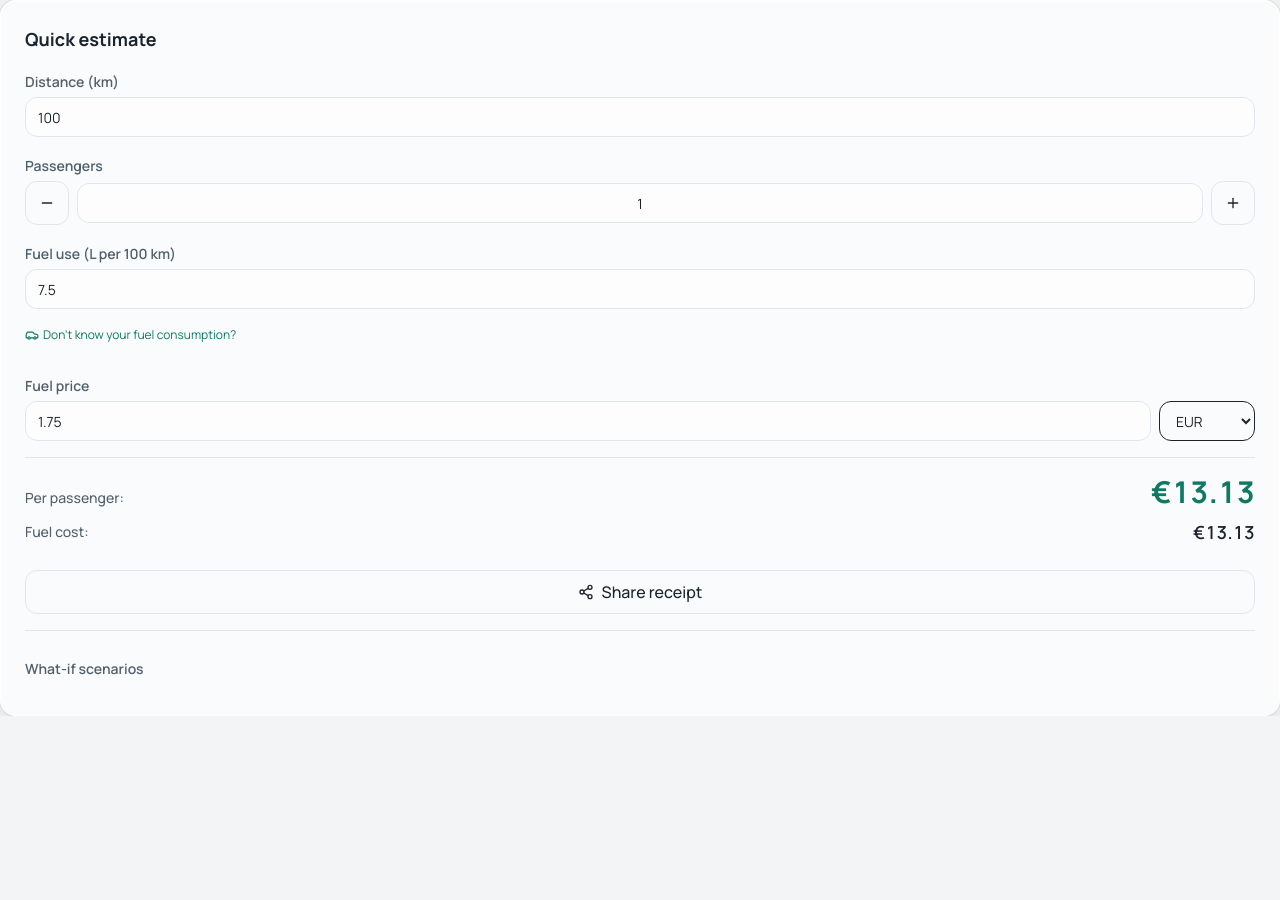
Test: QuickCalculator + scenarios › preserves the established suggested-price conversion on an untouched currency change
Select "UAH" in the dropdown at [1207, 421], box [1159,401,1255,441]
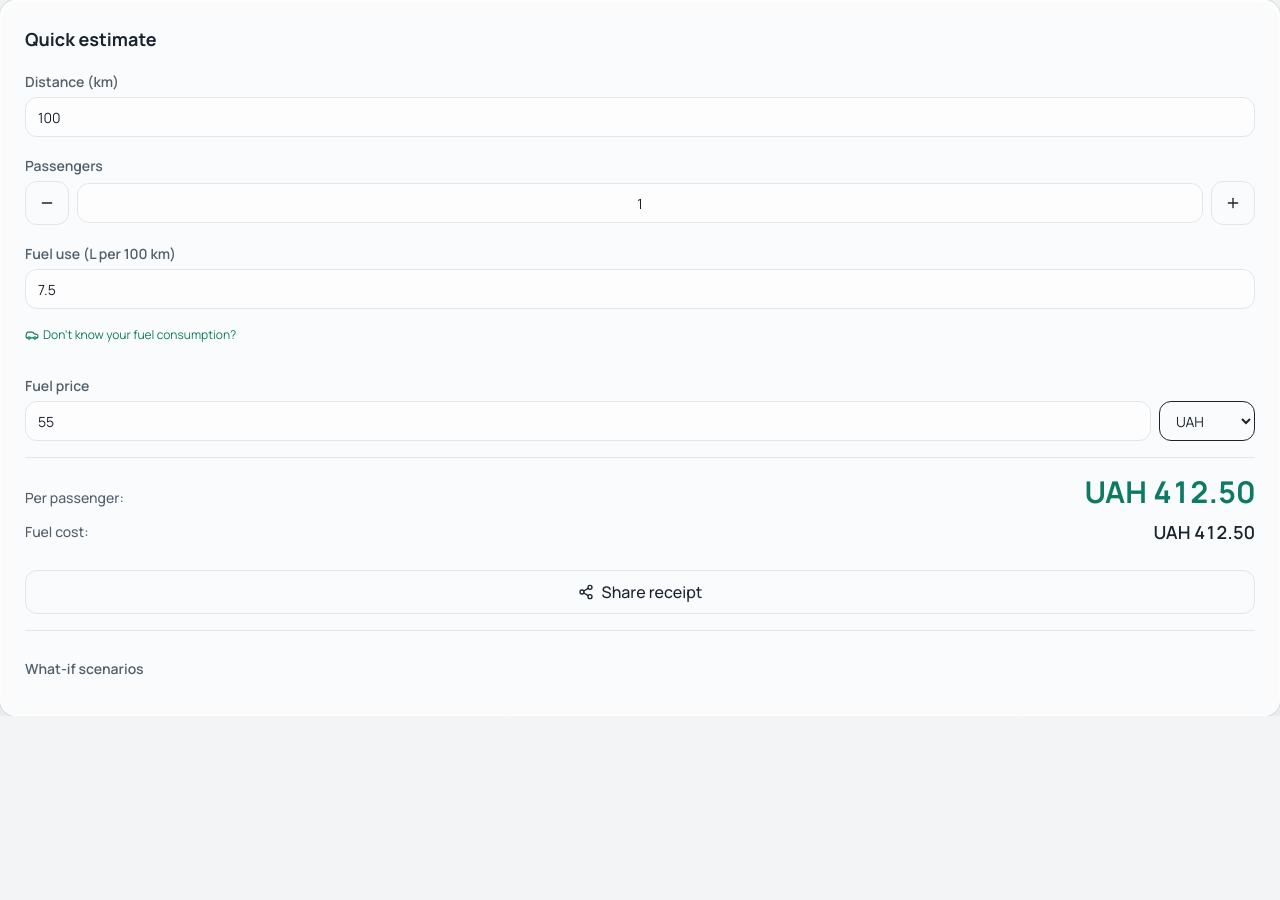
Expected: the field labelled "Fuel use (L per 100 km)" holds "7.5", [25,269,1255,309]
Expected: the field labelled "Fuel price" holds "55", [25,401,1151,441]
